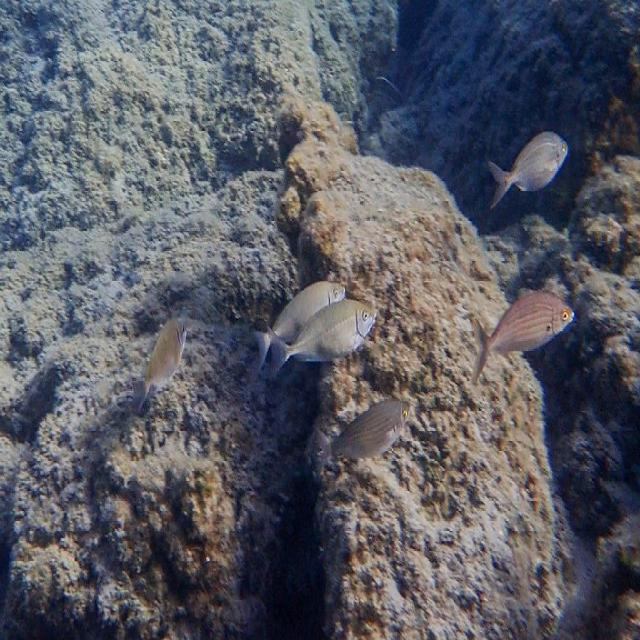Sokar Baligi: (464, 276, 580, 394), (306, 385, 422, 481), (482, 121, 574, 215), (128, 306, 199, 418)
